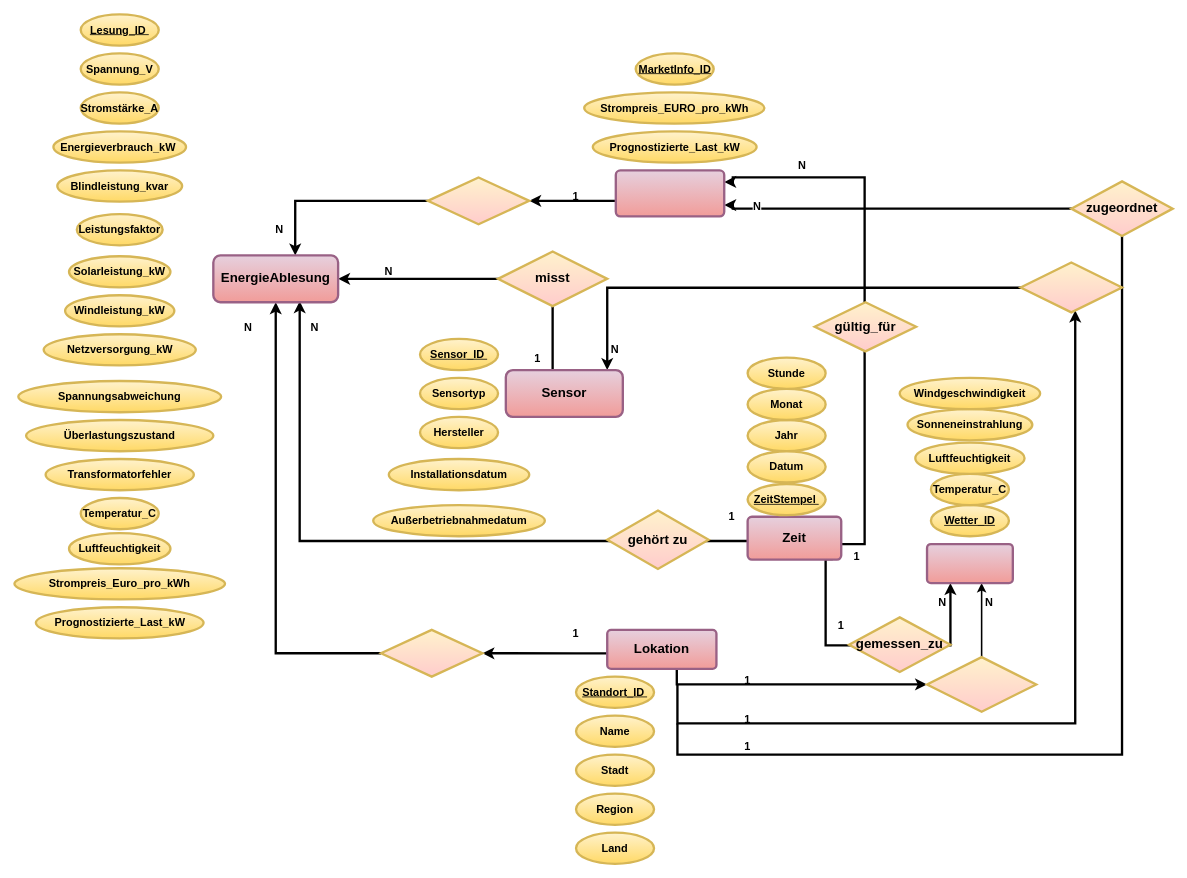
This 1187x878 diagram has some shape labels left out. The shapes that lost their labels are listed below. From the top down, each one's centre as x and y in pixels, then its label:
the point at 478,200: beeinflusst
the point at 669,193: MarketInfo
the point at 1071,287: installiert
the point at 969,563: Wetter
the point at 431,652: hat
the point at 981,684: erfasst
